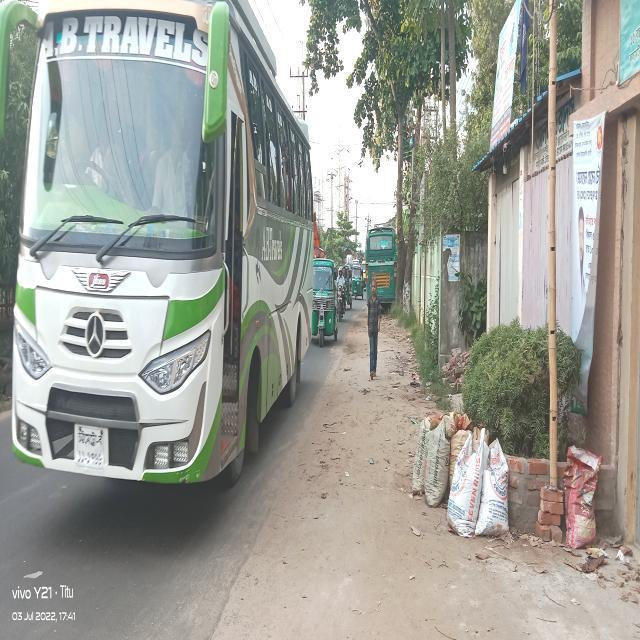Bus: (2, 19, 319, 476), (362, 202, 401, 316)
